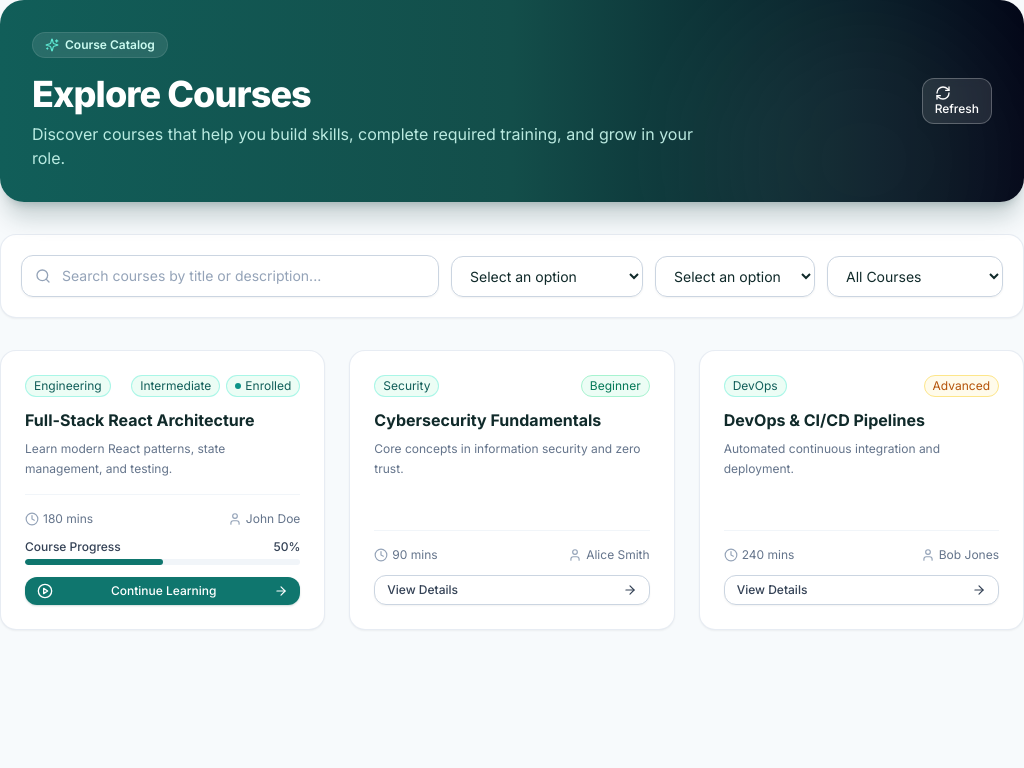
Test: CoursesPage (Scenarios 1-8) › 8. filters courses by category select option
This screenshot has width=1024, height=768.
Expected: the heading "Full-Stack React Architecture" is shown, [25,410,254,430]
Select "DevOps" in the dropdown named "filter by category" at {"x": 547, "y": 276}, box [451,256,643,296]
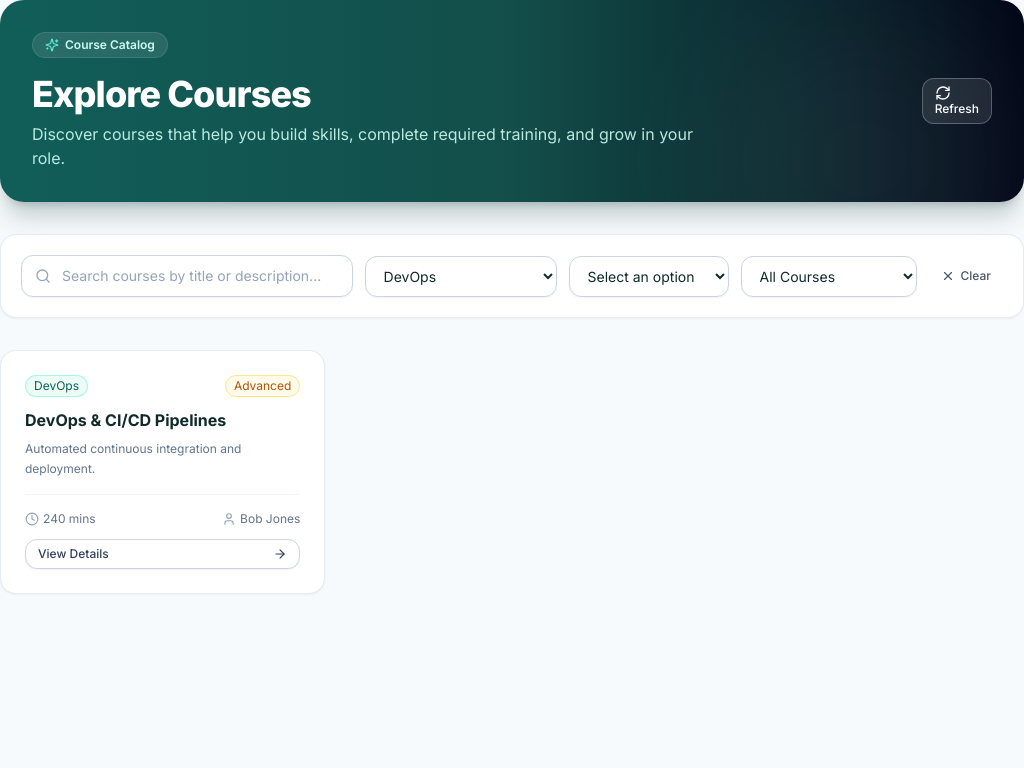
Expected: the heading "DevOps & CI/CD Pipelines" is shown, [25,410,226,430]
Result: the heading "Full-Stack React Architecture" is gone
Result: the heading "Cybersecurity Fundamentals" is gone
